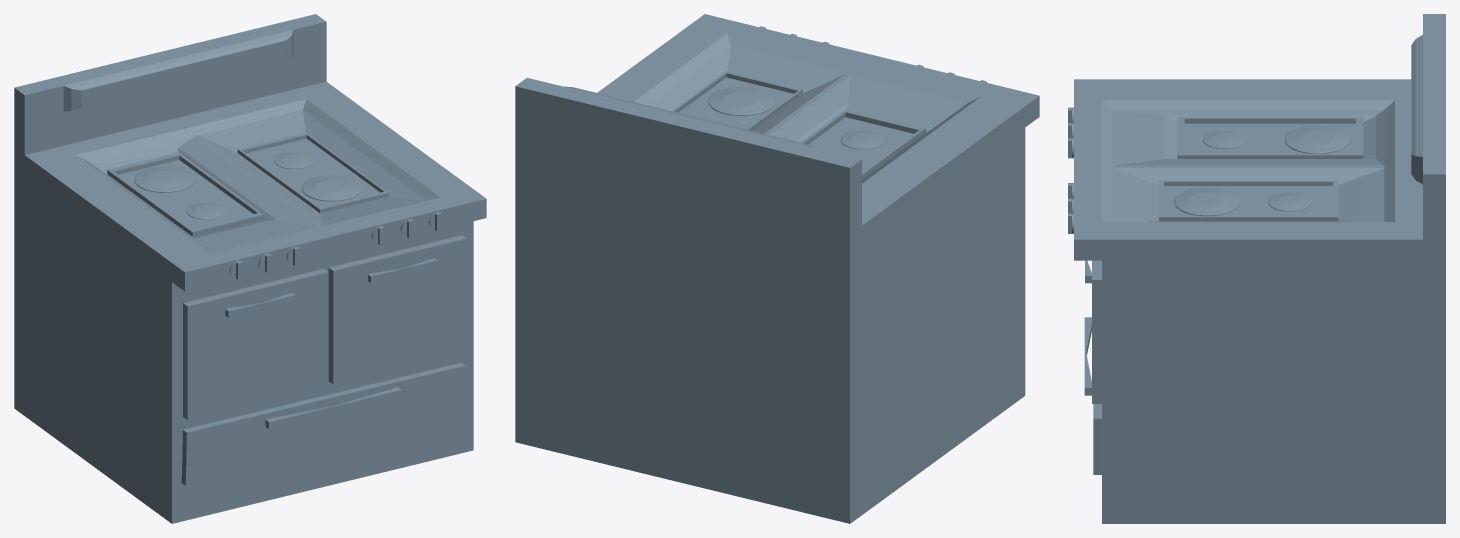
Rendered from KitchenStove1.fbx.
3 views of the same model, side by side, from view 1: azimuth 30°, elevation 25°; view 2: azimuth 150°, elevation 25°; view 3: azimuth 270°, elevation 25° (orthographic). The views are drawn at different scales.
Parts seen in each view (by area): view 1: Stove1; view 2: Stove1; view 3: Stove1.
Part boxes in pixels (x1,y1,x2,y2): Stove1: (14, 14, 486, 523); Stove1: (515, 14, 1039, 523); Stove1: (1068, 14, 1445, 523).
Size of the model in its own units: 111 by 113 by 111.
